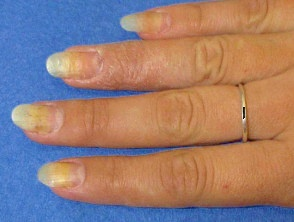Nail_psoriasis: (44, 46, 113, 86), (8, 97, 72, 139), (34, 161, 85, 191), (120, 11, 165, 38)
